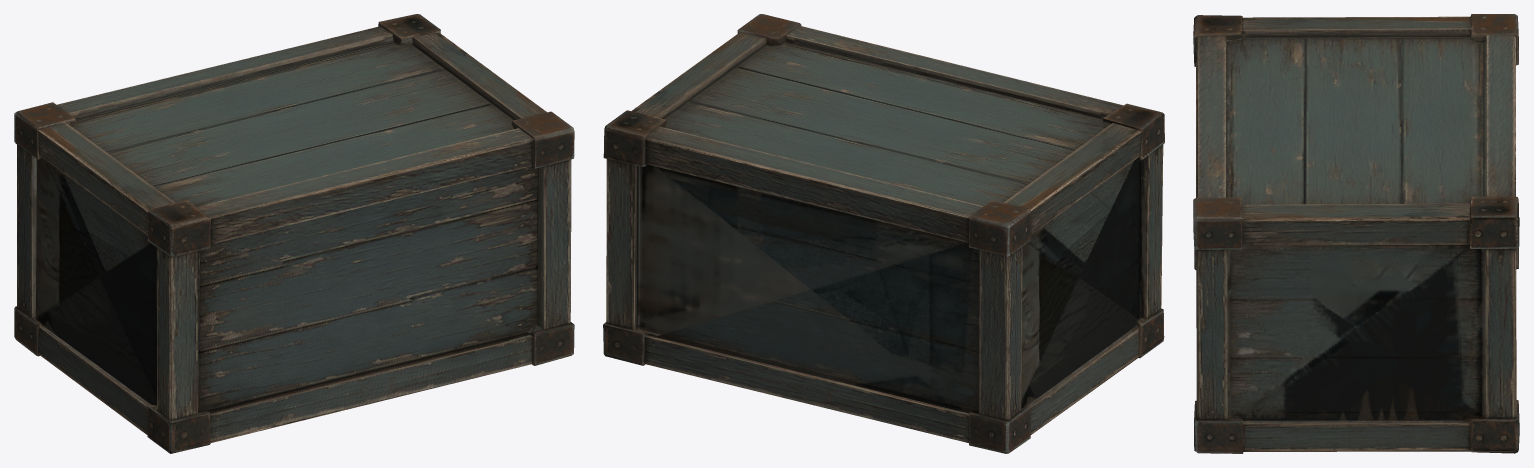
The model's file is wooden_crate.fbx.
3 renders of one model, left to right at view 1: azimuth 30°, elevation 25°; view 2: azimuth 150°, elevation 25°; view 3: azimuth 270°, elevation 25°, orthographic. The views are drawn at different scales.
Visible parts, largest first — view 1: wooden_crate; view 2: wooden_crate; view 3: wooden_crate.
Part boxes in pixels (bbox=[...]): wooden_crate: bbox=[14, 14, 574, 453]; wooden_crate: bbox=[603, 14, 1164, 453]; wooden_crate: bbox=[1193, 14, 1519, 453].
Bounding box in the file's own units: 224 × 122 × 152.
1 material, 1 textured.
